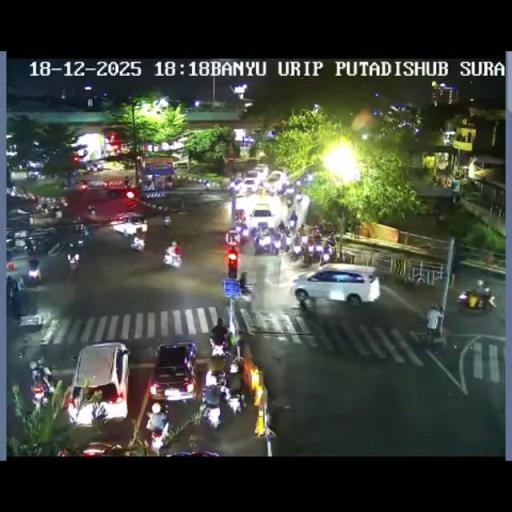Car: (68, 342, 130, 424), (290, 263, 380, 306), (148, 342, 198, 402), (110, 213, 148, 237), (250, 202, 275, 230), (74, 441, 124, 455), (106, 179, 134, 198), (266, 170, 287, 192), (247, 165, 268, 180), (240, 177, 259, 193)
Motorcycle: (144, 404, 170, 452), (460, 278, 494, 310), (30, 365, 54, 407), (6, 276, 26, 318), (424, 304, 442, 346), (203, 365, 227, 393), (225, 385, 244, 417), (208, 336, 230, 362), (253, 230, 275, 254), (202, 402, 222, 428), (36, 233, 62, 253), (231, 222, 250, 246), (163, 247, 182, 268), (319, 242, 334, 264), (290, 239, 305, 259), (27, 266, 42, 286), (238, 283, 254, 301), (74, 229, 88, 248), (130, 237, 145, 252), (302, 244, 312, 265), (68, 254, 79, 270), (228, 358, 239, 374), (24, 238, 36, 252), (283, 233, 294, 248), (312, 227, 322, 243), (325, 233, 336, 247), (277, 222, 288, 235), (249, 225, 258, 239), (236, 208, 245, 222), (78, 180, 88, 191), (298, 223, 306, 236), (58, 197, 68, 207), (162, 216, 170, 228), (301, 233, 309, 245), (95, 161, 105, 170), (86, 162, 94, 173), (452, 192, 460, 203), (260, 186, 269, 195), (229, 181, 237, 191), (28, 172, 38, 180), (209, 179, 219, 187), (286, 197, 292, 209), (88, 205, 95, 215), (162, 204, 170, 212), (296, 194, 302, 204), (204, 180, 210, 190), (56, 209, 62, 219), (289, 218, 295, 227), (295, 180, 301, 188), (157, 205, 163, 211)
